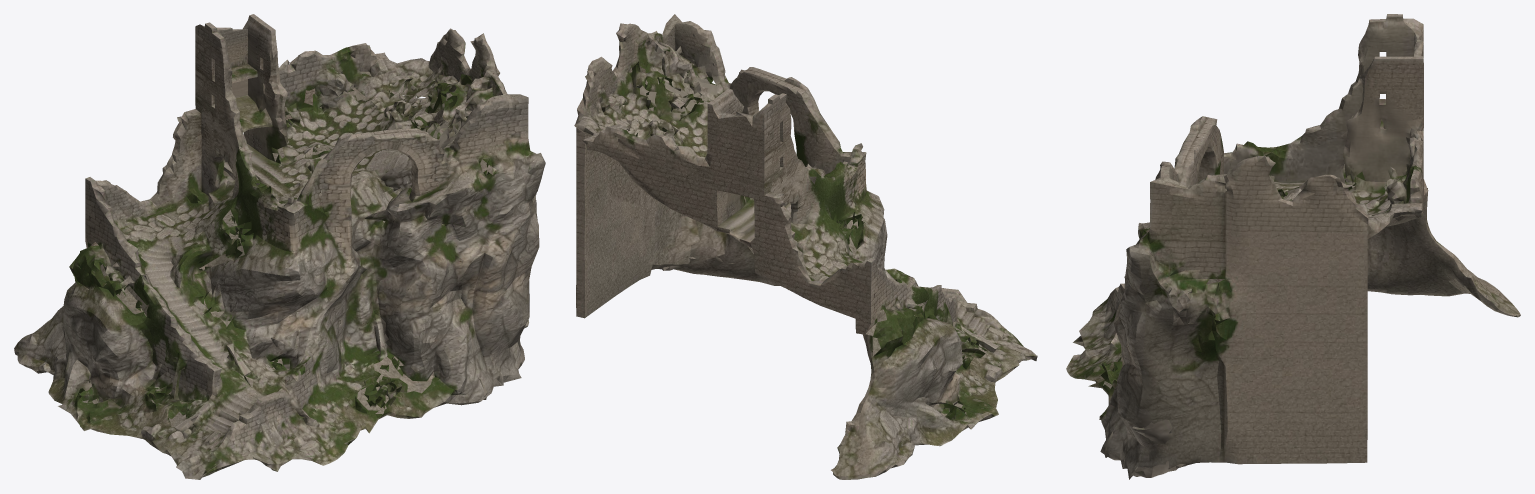
File: Ruins.glb
3 views of the same model, side by side, from view 1: azimuth 30°, elevation 25°; view 2: azimuth 150°, elevation 25°; view 3: azimuth 270°, elevation 25° (orthographic). The views are drawn at different scales.
Visible parts, largest first — view 1: Mesh0; view 2: Mesh0; view 3: Mesh0.
Part boxes in pixels (x1,y1,x2,y2): Mesh0: (14,14,545,479); Mesh0: (574,14,1037,479); Mesh0: (1066,14,1520,479).
Bounding box in the file's own units: 1.84 × 1.39 × 1.54.
Materials: 1 (1 with a texture image).
